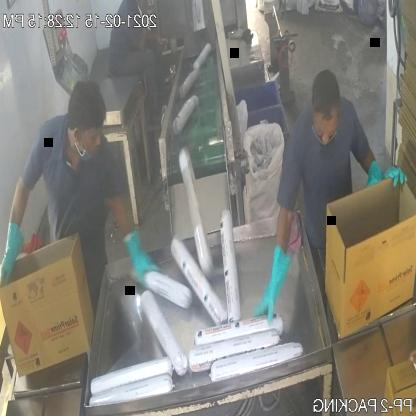glove: (253, 235, 295, 341), (118, 229, 167, 288), (360, 152, 408, 202), (0, 205, 25, 295)
